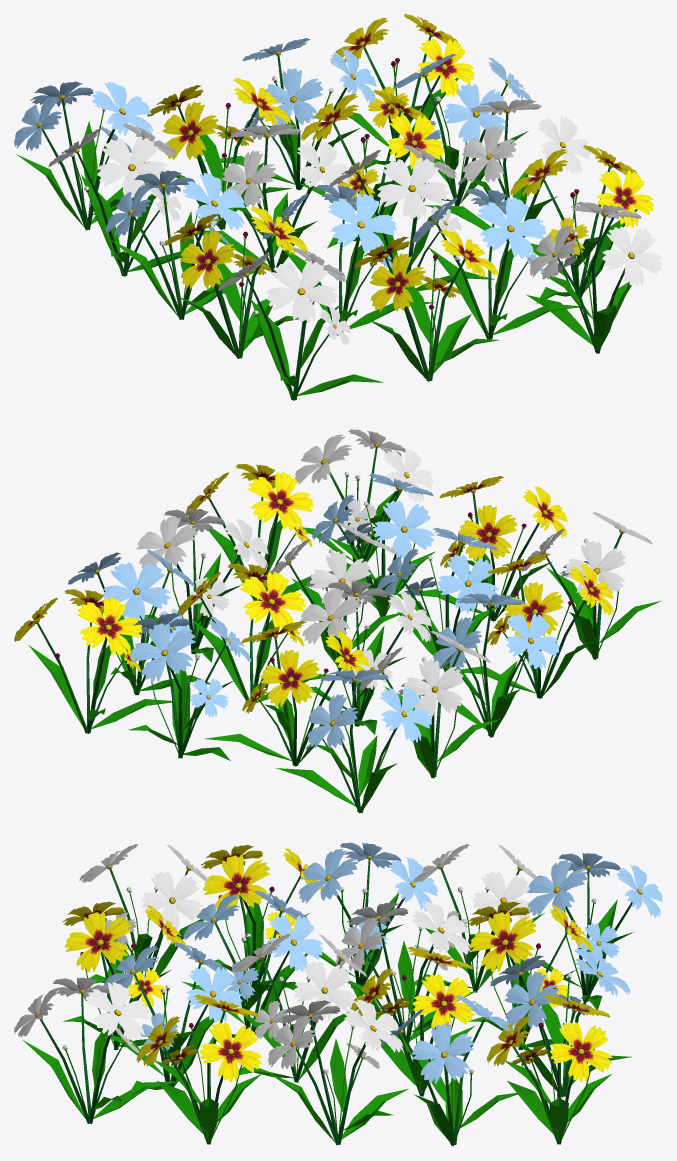
Rendered from asset.glb.
3 renders of one model, top to bottom at view 1: azimuth 30°, elevation 25°; view 2: azimuth 150°, elevation 25°; view 3: azimuth 270°, elevation 25°, orthographic. The views are drawn at different scales.
Parts seen in each view (by area): view 1: Circle.013, Circle.017, Circle.012, Circle.010, Circle.018, Circle.014, Circle.005, Circle.016, Circle.007, Circle.008, Circle.004, Circle.009 (+6 smaller); view 2: Circle.018, Circle.001, Circle.002, Circle.005, Circle.009, Circle.004, Circle.008, Circle.017, Circle.014, Circle.003, Circle.013, Circle.010 (+6 smaller); view 3: Circle.004, Circle.017, Circle.016, Circle.002, Circle.018, Circle.008, Circle.011, Circle.014, Circle.015, Circle.001, Circle.005, Circle.013 (+6 smaller).
Part boxes in pixels (left/top/right/bottom): Circle.013: left=354, top=229, right=499, bottom=381; Circle.017: left=526, top=201, right=662, bottom=353; Circle.012: left=218, top=247, right=383, bottom=400; Circle.010: left=164, top=207, right=307, bottom=358; Circle.018: left=14, top=81, right=153, bottom=230; Circle.014: left=412, top=188, right=578, bottom=339; Circle.005: left=106, top=170, right=264, bottom=319; Circle.016: left=510, top=145, right=653, bottom=303; Circle.007: left=48, top=123, right=181, bottom=276; Circle.008: left=198, top=124, right=350, bottom=272; Circle.004: left=425, top=99, right=590, bottom=242; Circle.009: left=147, top=78, right=292, bottom=230; Circle.018: left=276, top=669, right=431, bottom=813; Circle.001: left=128, top=613, right=251, bottom=760; Circle.002: left=14, top=589, right=171, bottom=733; Circle.005: left=433, top=593, right=559, bottom=737; Circle.009: left=204, top=621, right=369, bottom=766; Circle.004: left=127, top=508, right=268, bottom=662; Circle.008: left=300, top=581, right=431, bottom=734; Circle.017: left=295, top=429, right=433, bottom=562; Circle.014: left=312, top=473, right=435, bottom=616; Circle.003: left=177, top=563, right=339, bottom=705; Circle.013: left=408, top=476, right=567, bottom=621; Circle.010: left=461, top=553, right=613, bottom=698; Circle.004: left=268, top=999, right=408, bottom=1145; Circle.017: left=14, top=977, right=178, bottom=1124; Circle.016: left=136, top=994, right=262, bottom=1144; Circle.002: left=487, top=994, right=612, bottom=1144; Circle.018: left=526, top=853, right=662, bottom=1009; Circle.008: left=336, top=901, right=476, bottom=1043; Circle.011: left=181, top=890, right=323, bottom=1043; Circle.014: left=103, top=942, right=242, bottom=1096; Circle.015: left=376, top=995, right=525, bottom=1146; Circle.001: left=490, top=949, right=631, bottom=1097; Circle.005: left=298, top=842, right=437, bottom=997; Circle.013: left=62, top=901, right=186, bottom=1049.
Size of the model in its own units: 5.91 by 1.77 by 7.42.
103 materials, 36 textured.
